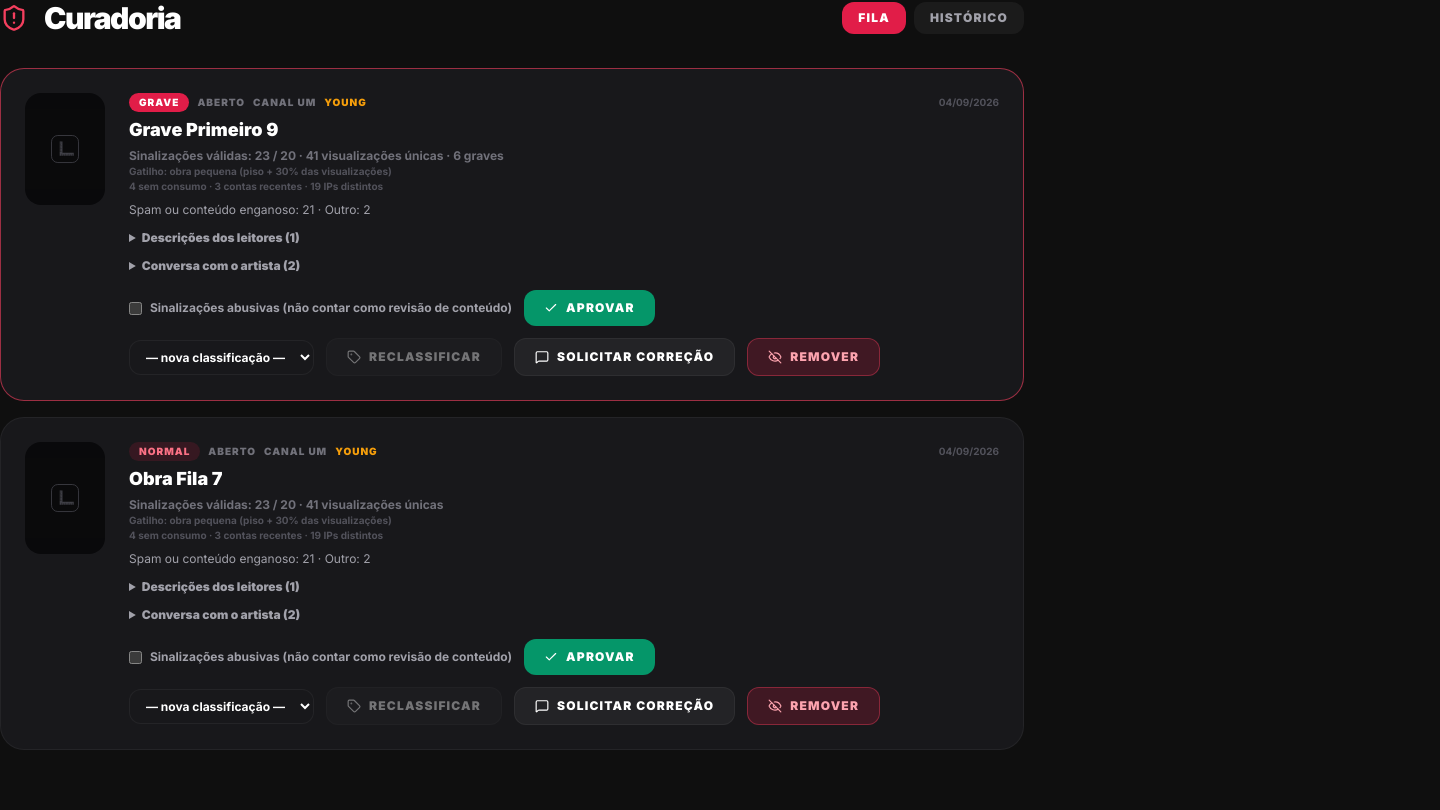
CuradoriaPanel — acessibilidade do modal › é role="dialog" aria-modal, rotulado pelo título, com foco inicial no textarea e X rotulado
This screenshot has width=1440, height=810.
Click the 2nd button "Remover". click: (814, 706)
box: [747,687,880,725]
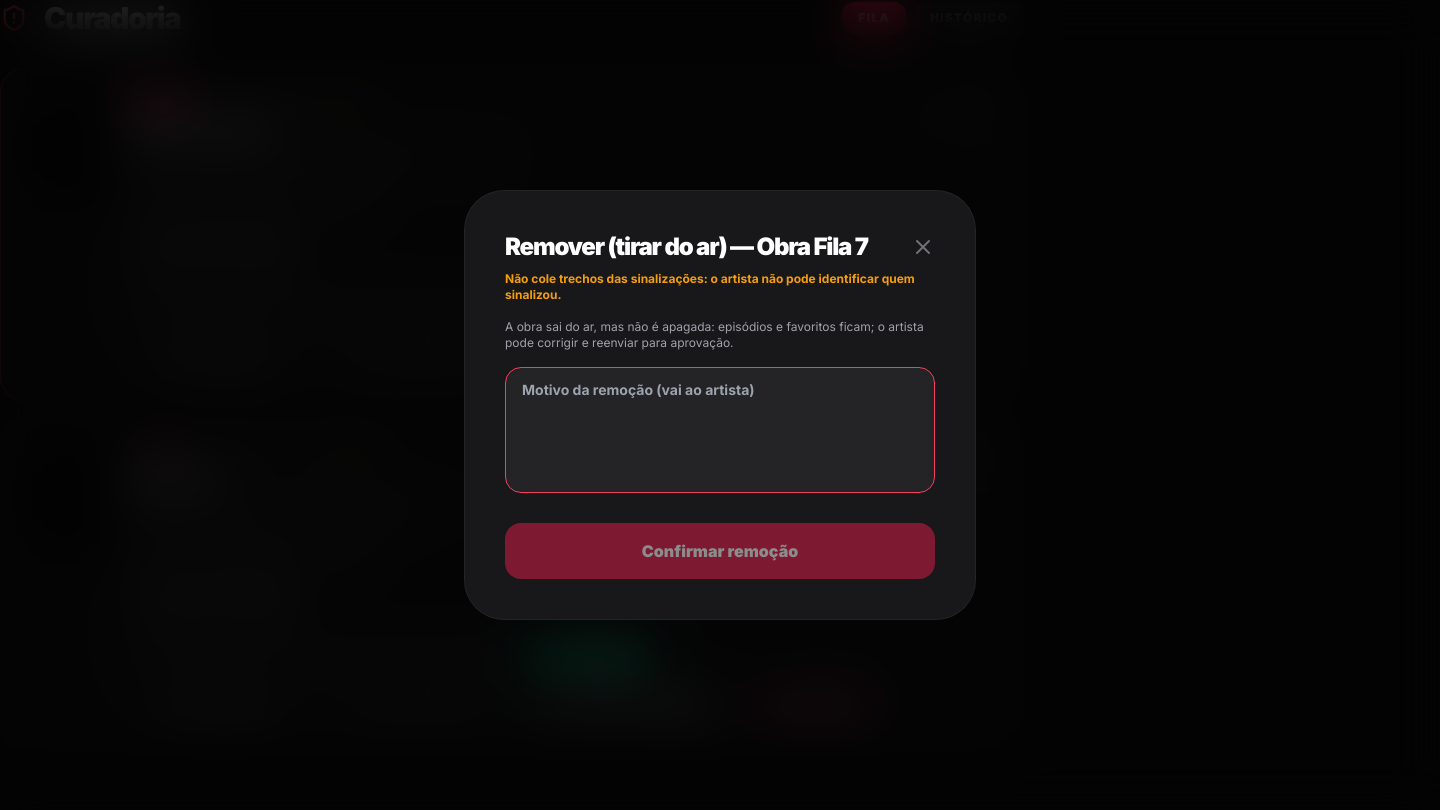
Result: the button named "Fechar" is shown at [911,235,935,259]
